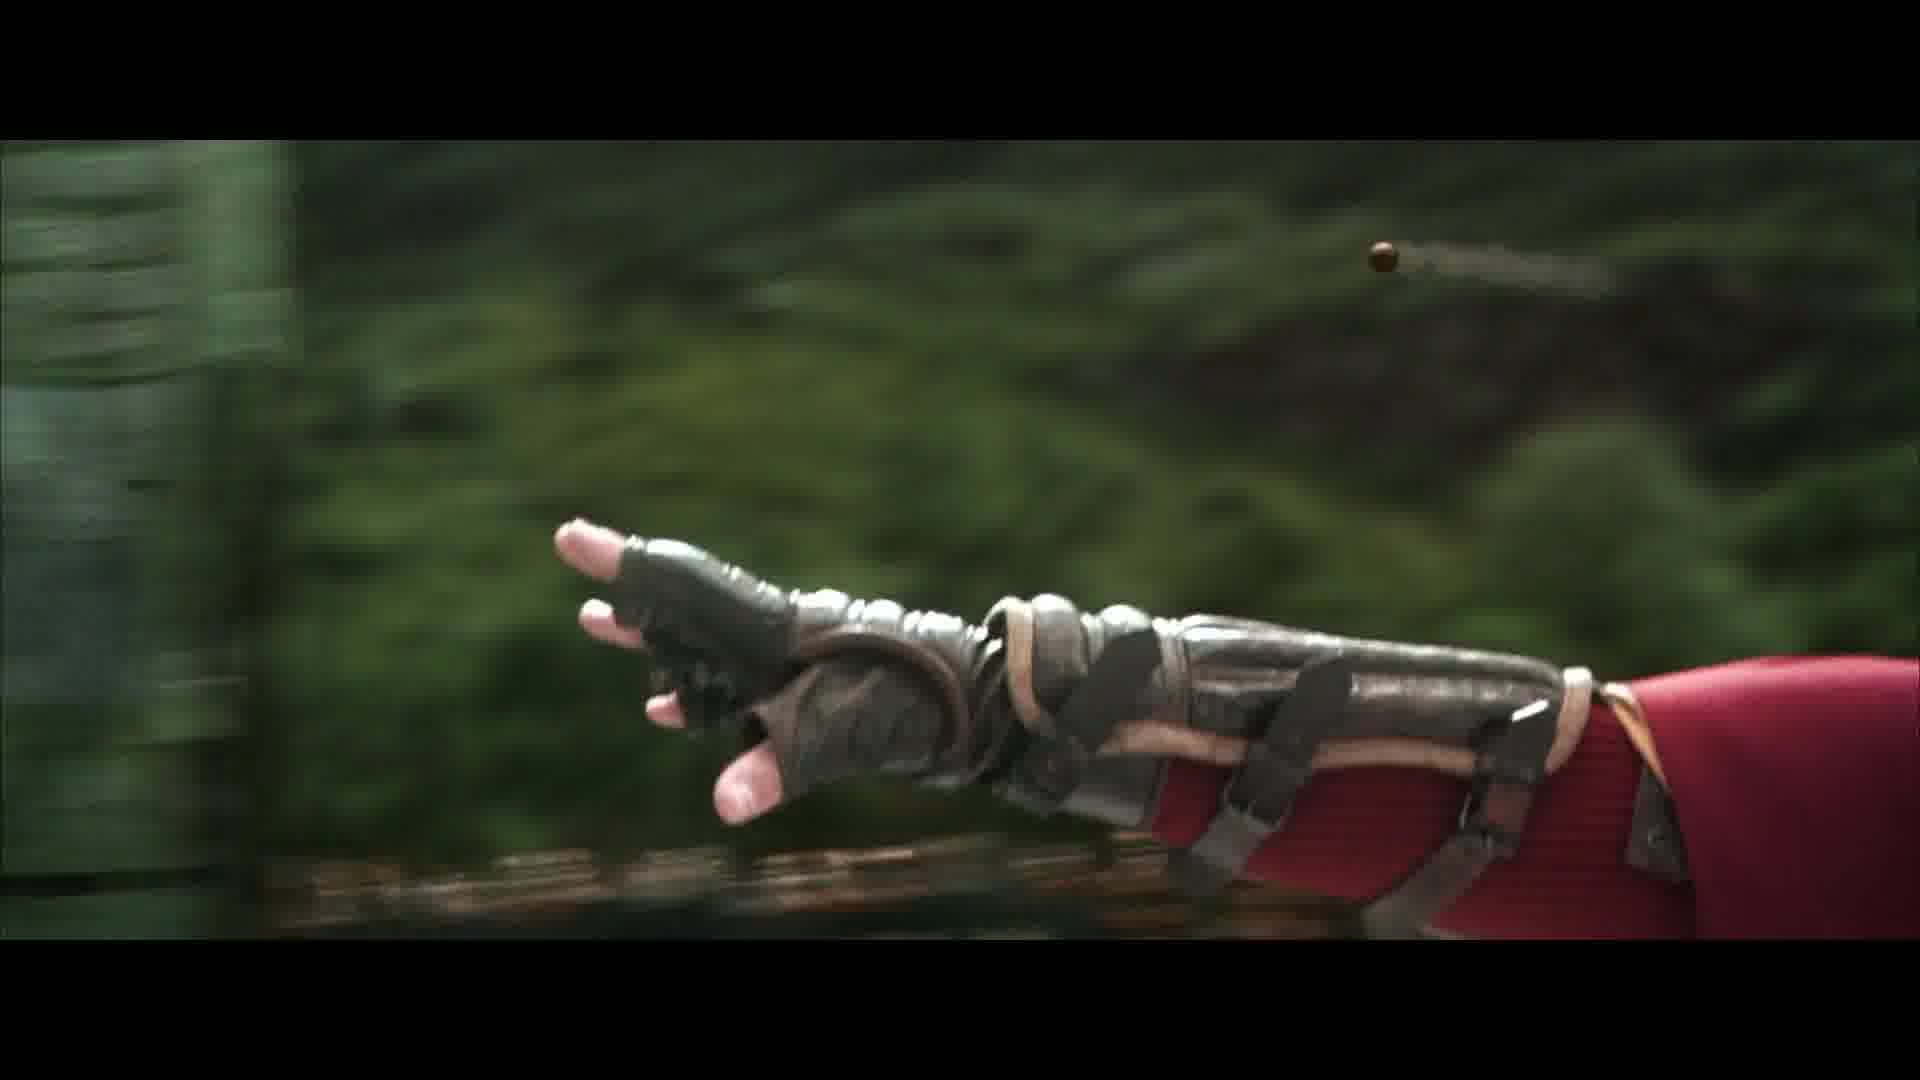bludger: (1364, 241, 1403, 276)
